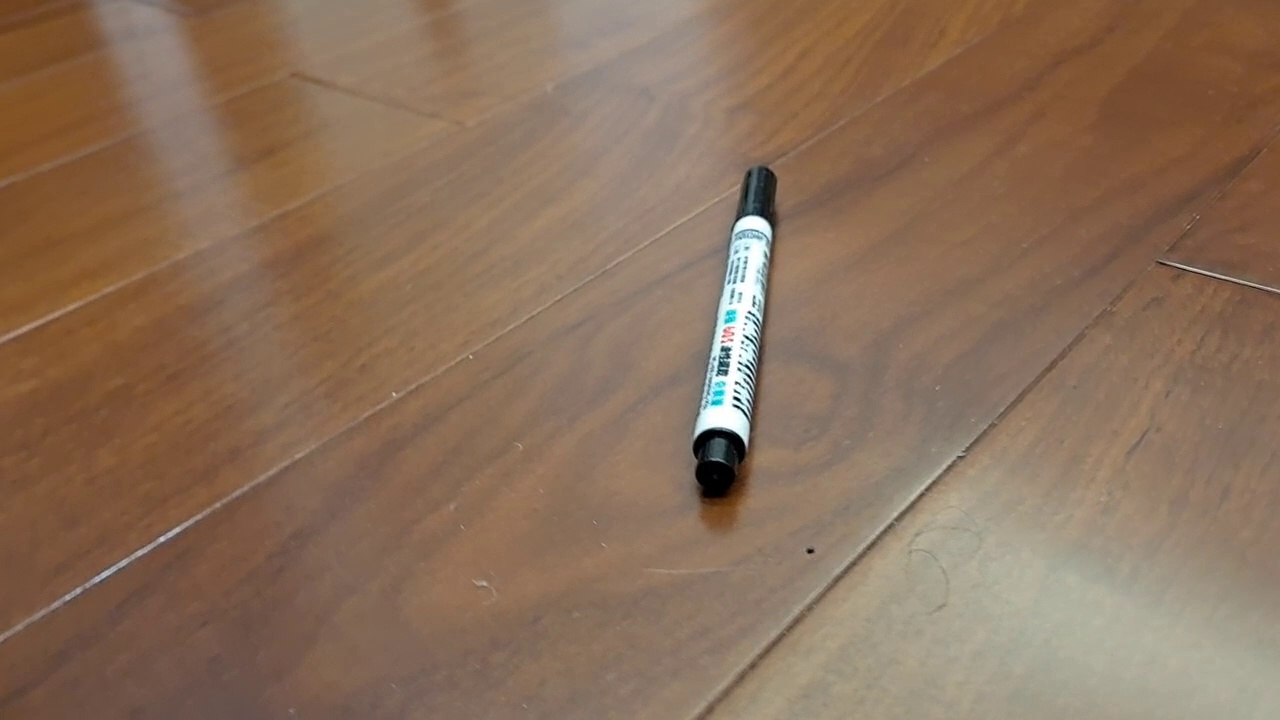pen: (691, 166, 778, 499)
